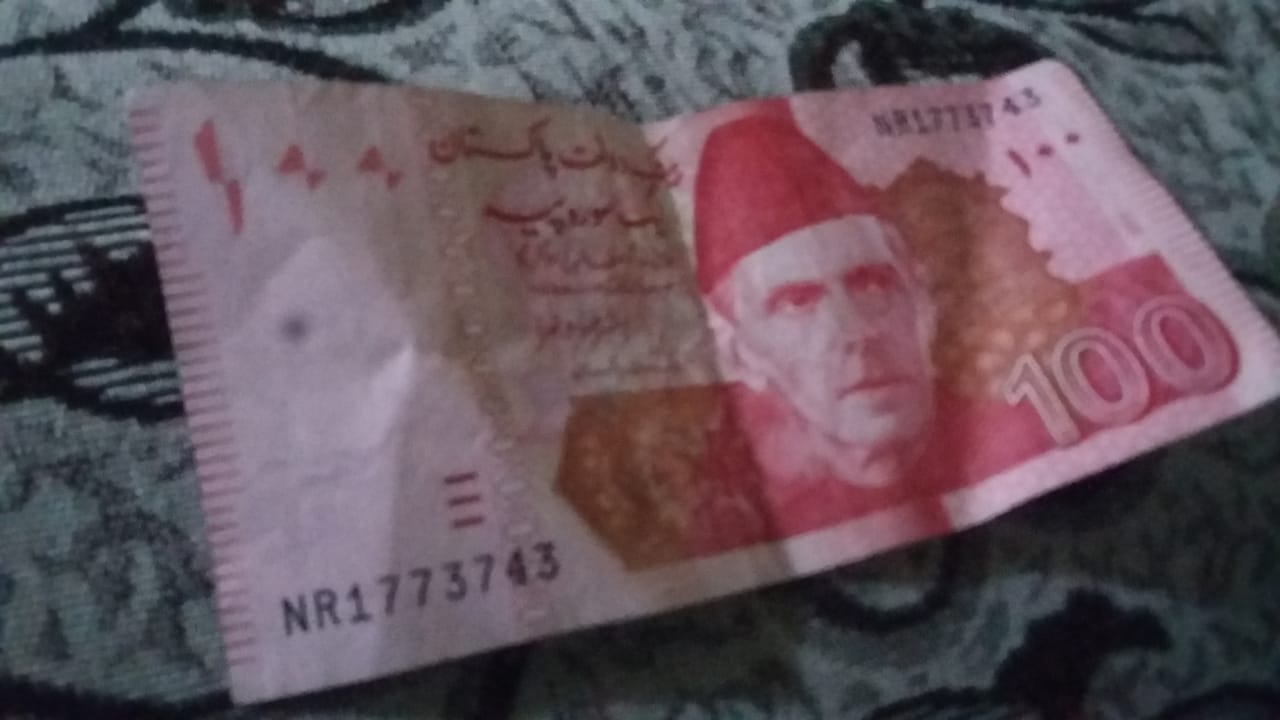100 rupee: (96, 56, 1280, 709)
